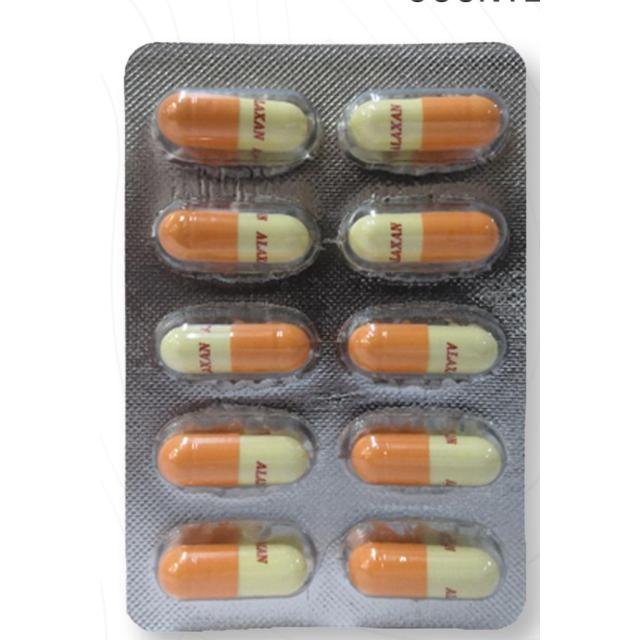blister: (120, 32, 534, 637)
